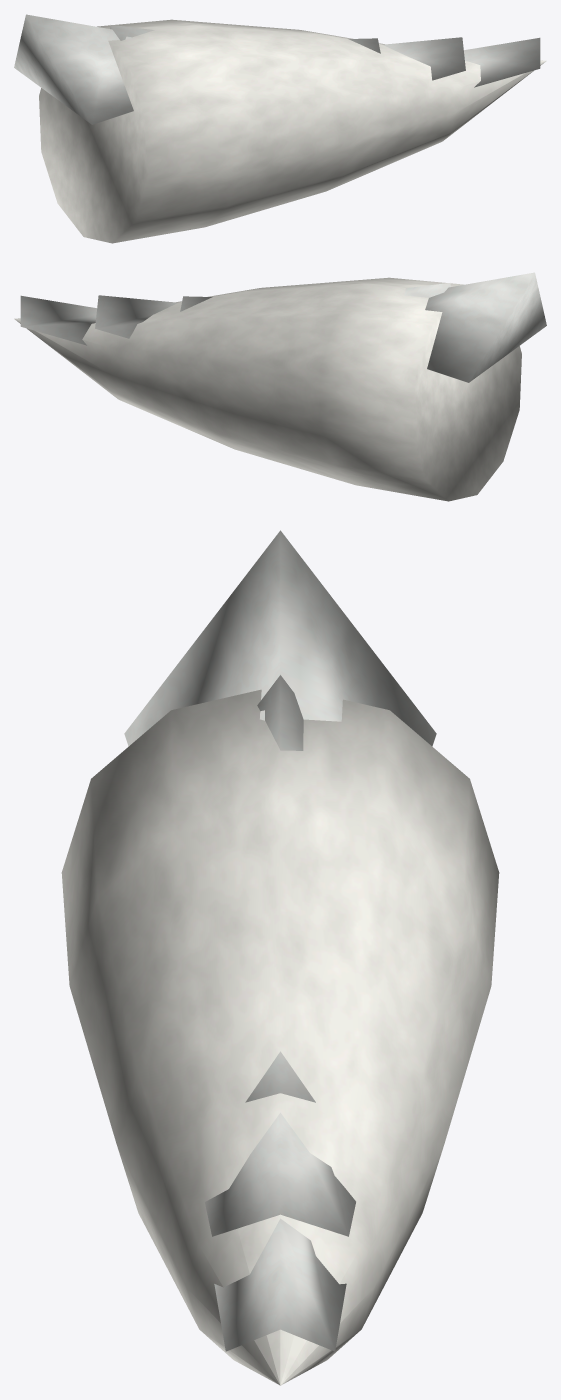
File: dragon_tail.glb
3 renders of one model, top to bottom at view 1: azimuth 30°, elevation 25°; view 2: azimuth 150°, elevation 25°; view 3: azimuth 270°, elevation 25°, orthographic. The views are drawn at different scales.
Visible parts, largest first — view 1: dragon_tail; view 2: dragon_tail; view 3: dragon_tail.
Part boxes in pixels (left/top/right/bottom): dragon_tail: left=14, top=14, right=546, bottom=243; dragon_tail: left=14, top=272, right=546, bottom=501; dragon_tail: left=61, top=530, right=499, bottom=1385.
Size of the model in its own units: 1.54 by 0.688 by 0.56.
1 material, 1 textured.
